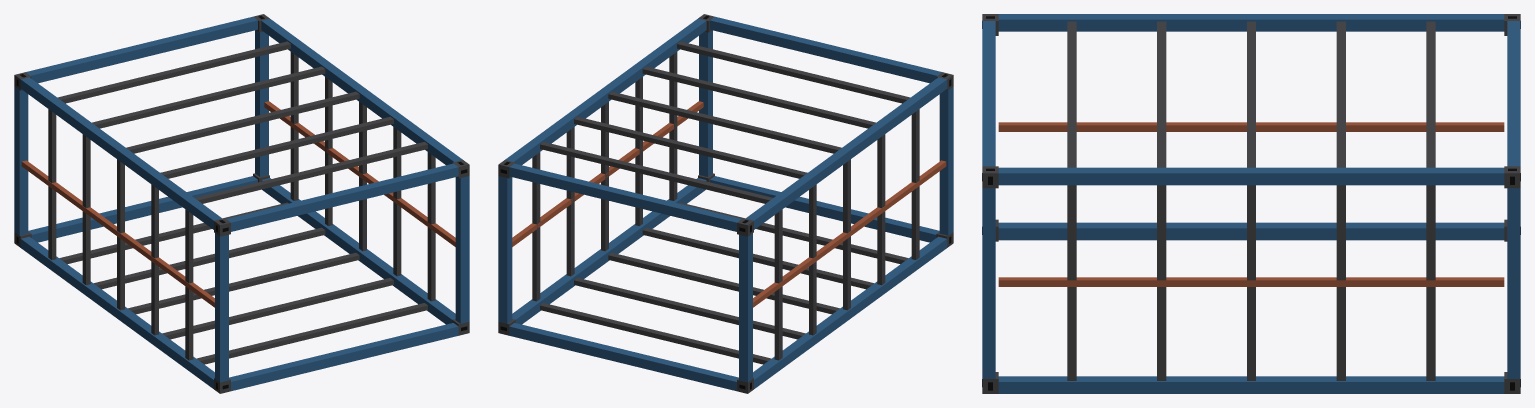
Rendered from pax100_frame.obj.
3 views of the same model, side by side, from view 1: azimuth 30°, elevation 25°; view 2: azimuth 150°, elevation 25°; view 3: azimuth 270°, elevation 25° (orthographic). The views are drawn at different scales.
Visible parts, largest first — view 1: pax100_frame; view 2: pax100_frame; view 3: pax100_frame.
Part boxes in pixels (bbox=[...]): pax100_frame: bbox=[14, 14, 469, 393]; pax100_frame: bbox=[498, 14, 953, 393]; pax100_frame: bbox=[982, 14, 1520, 393].
Size of the model in its own units: 7.33 by 4.74 by 10.47.
